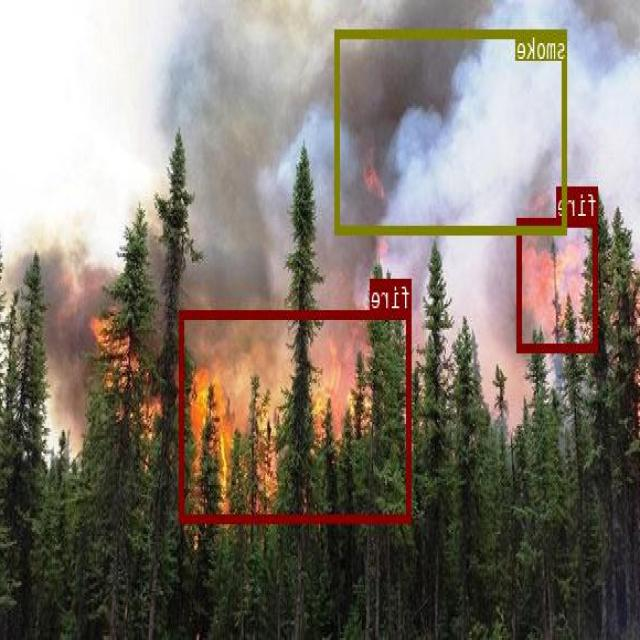fire: (180, 309, 412, 521), (518, 218, 598, 350)
smoke: (336, 29, 568, 232)
